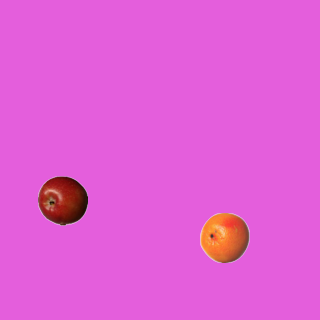Apple Braeburn: (37, 175, 87, 225)
Grapefruit Pink: (199, 212, 249, 262)
